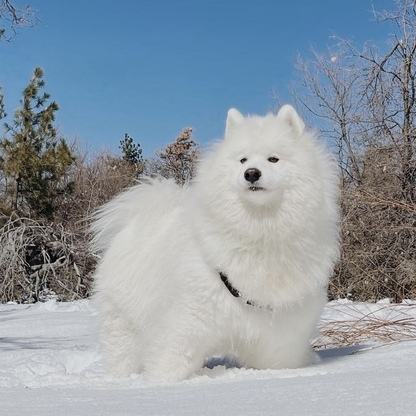samoyed: (80, 100, 349, 387)
